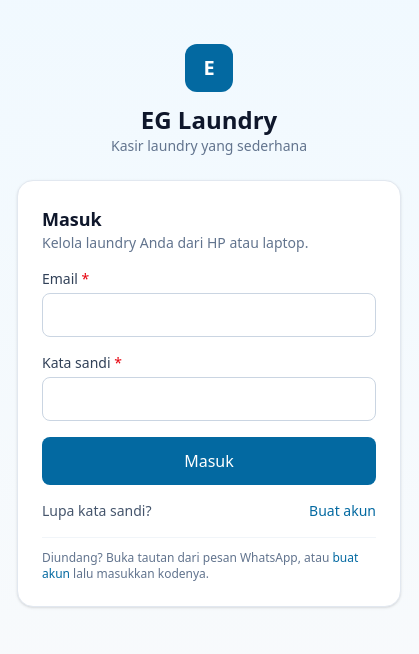
Test: LoginPage: Lupa kata sandi? › asks to wait when the email was requested again too soon
Type "istri@gmail.com" into the field labelled "Email *". click: point(209, 314)
box: [42, 292, 376, 336]
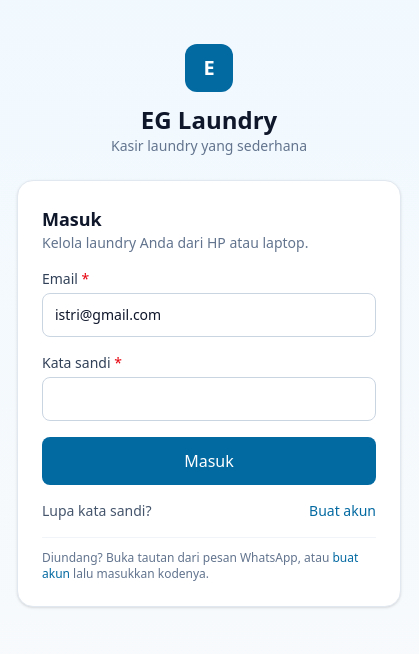
Click the button "Lupa kata sandi?". click: point(97, 510)
box: [42, 500, 152, 520]
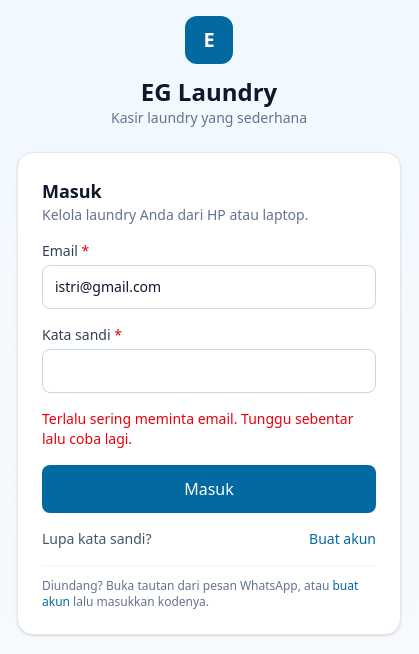
Now the text "Terlalu sering meminta email. Tunggu sebentar lalu coba lagi." is shown, box [42, 408, 376, 448]
